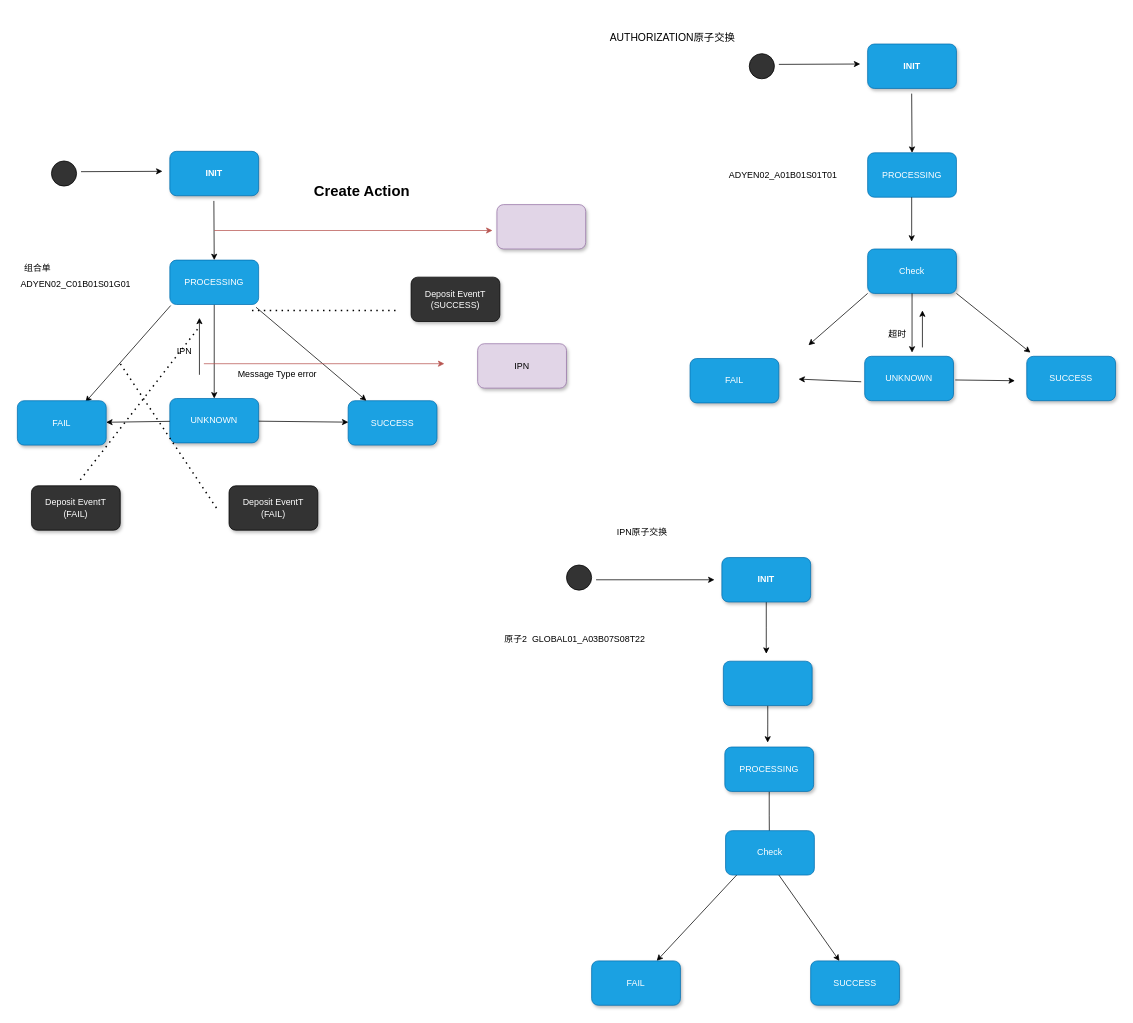
Some shapes in this 1133 by 1023 pixel diagram are drawn without their labels. Here are the shapes that lost their labels. From the top down, the centre of each, then its label:
(x=541, y=227): AUTHORIZATION
(x=768, y=684): ACCEPT
